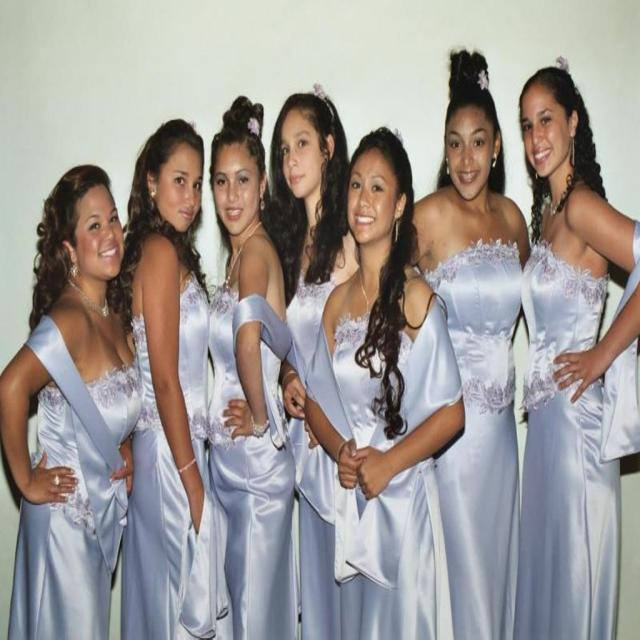Face: (275, 103, 338, 210), (214, 126, 265, 245), (515, 85, 574, 184), (350, 149, 410, 244), (443, 99, 497, 203), (75, 178, 126, 287), (152, 140, 207, 233)
